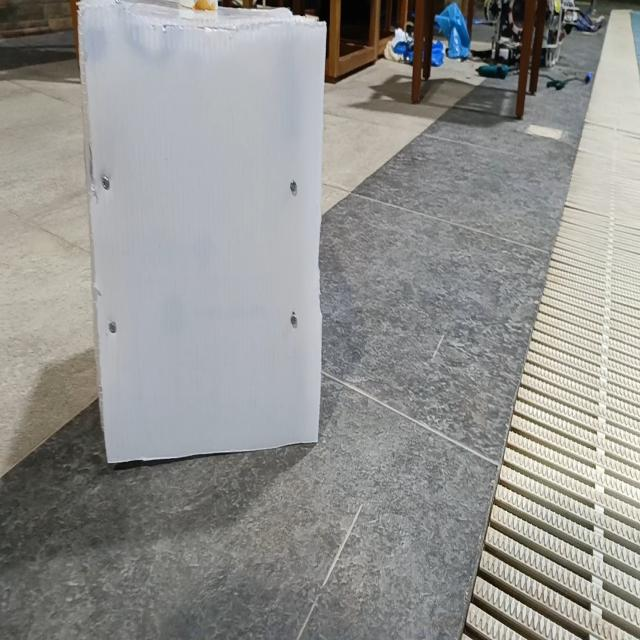Cube: (76, 0, 327, 465)
